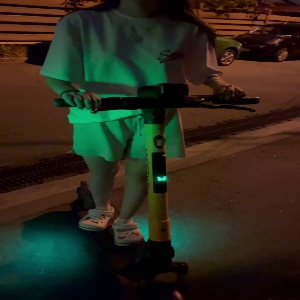human on a scooter: (38, 1, 262, 300)
